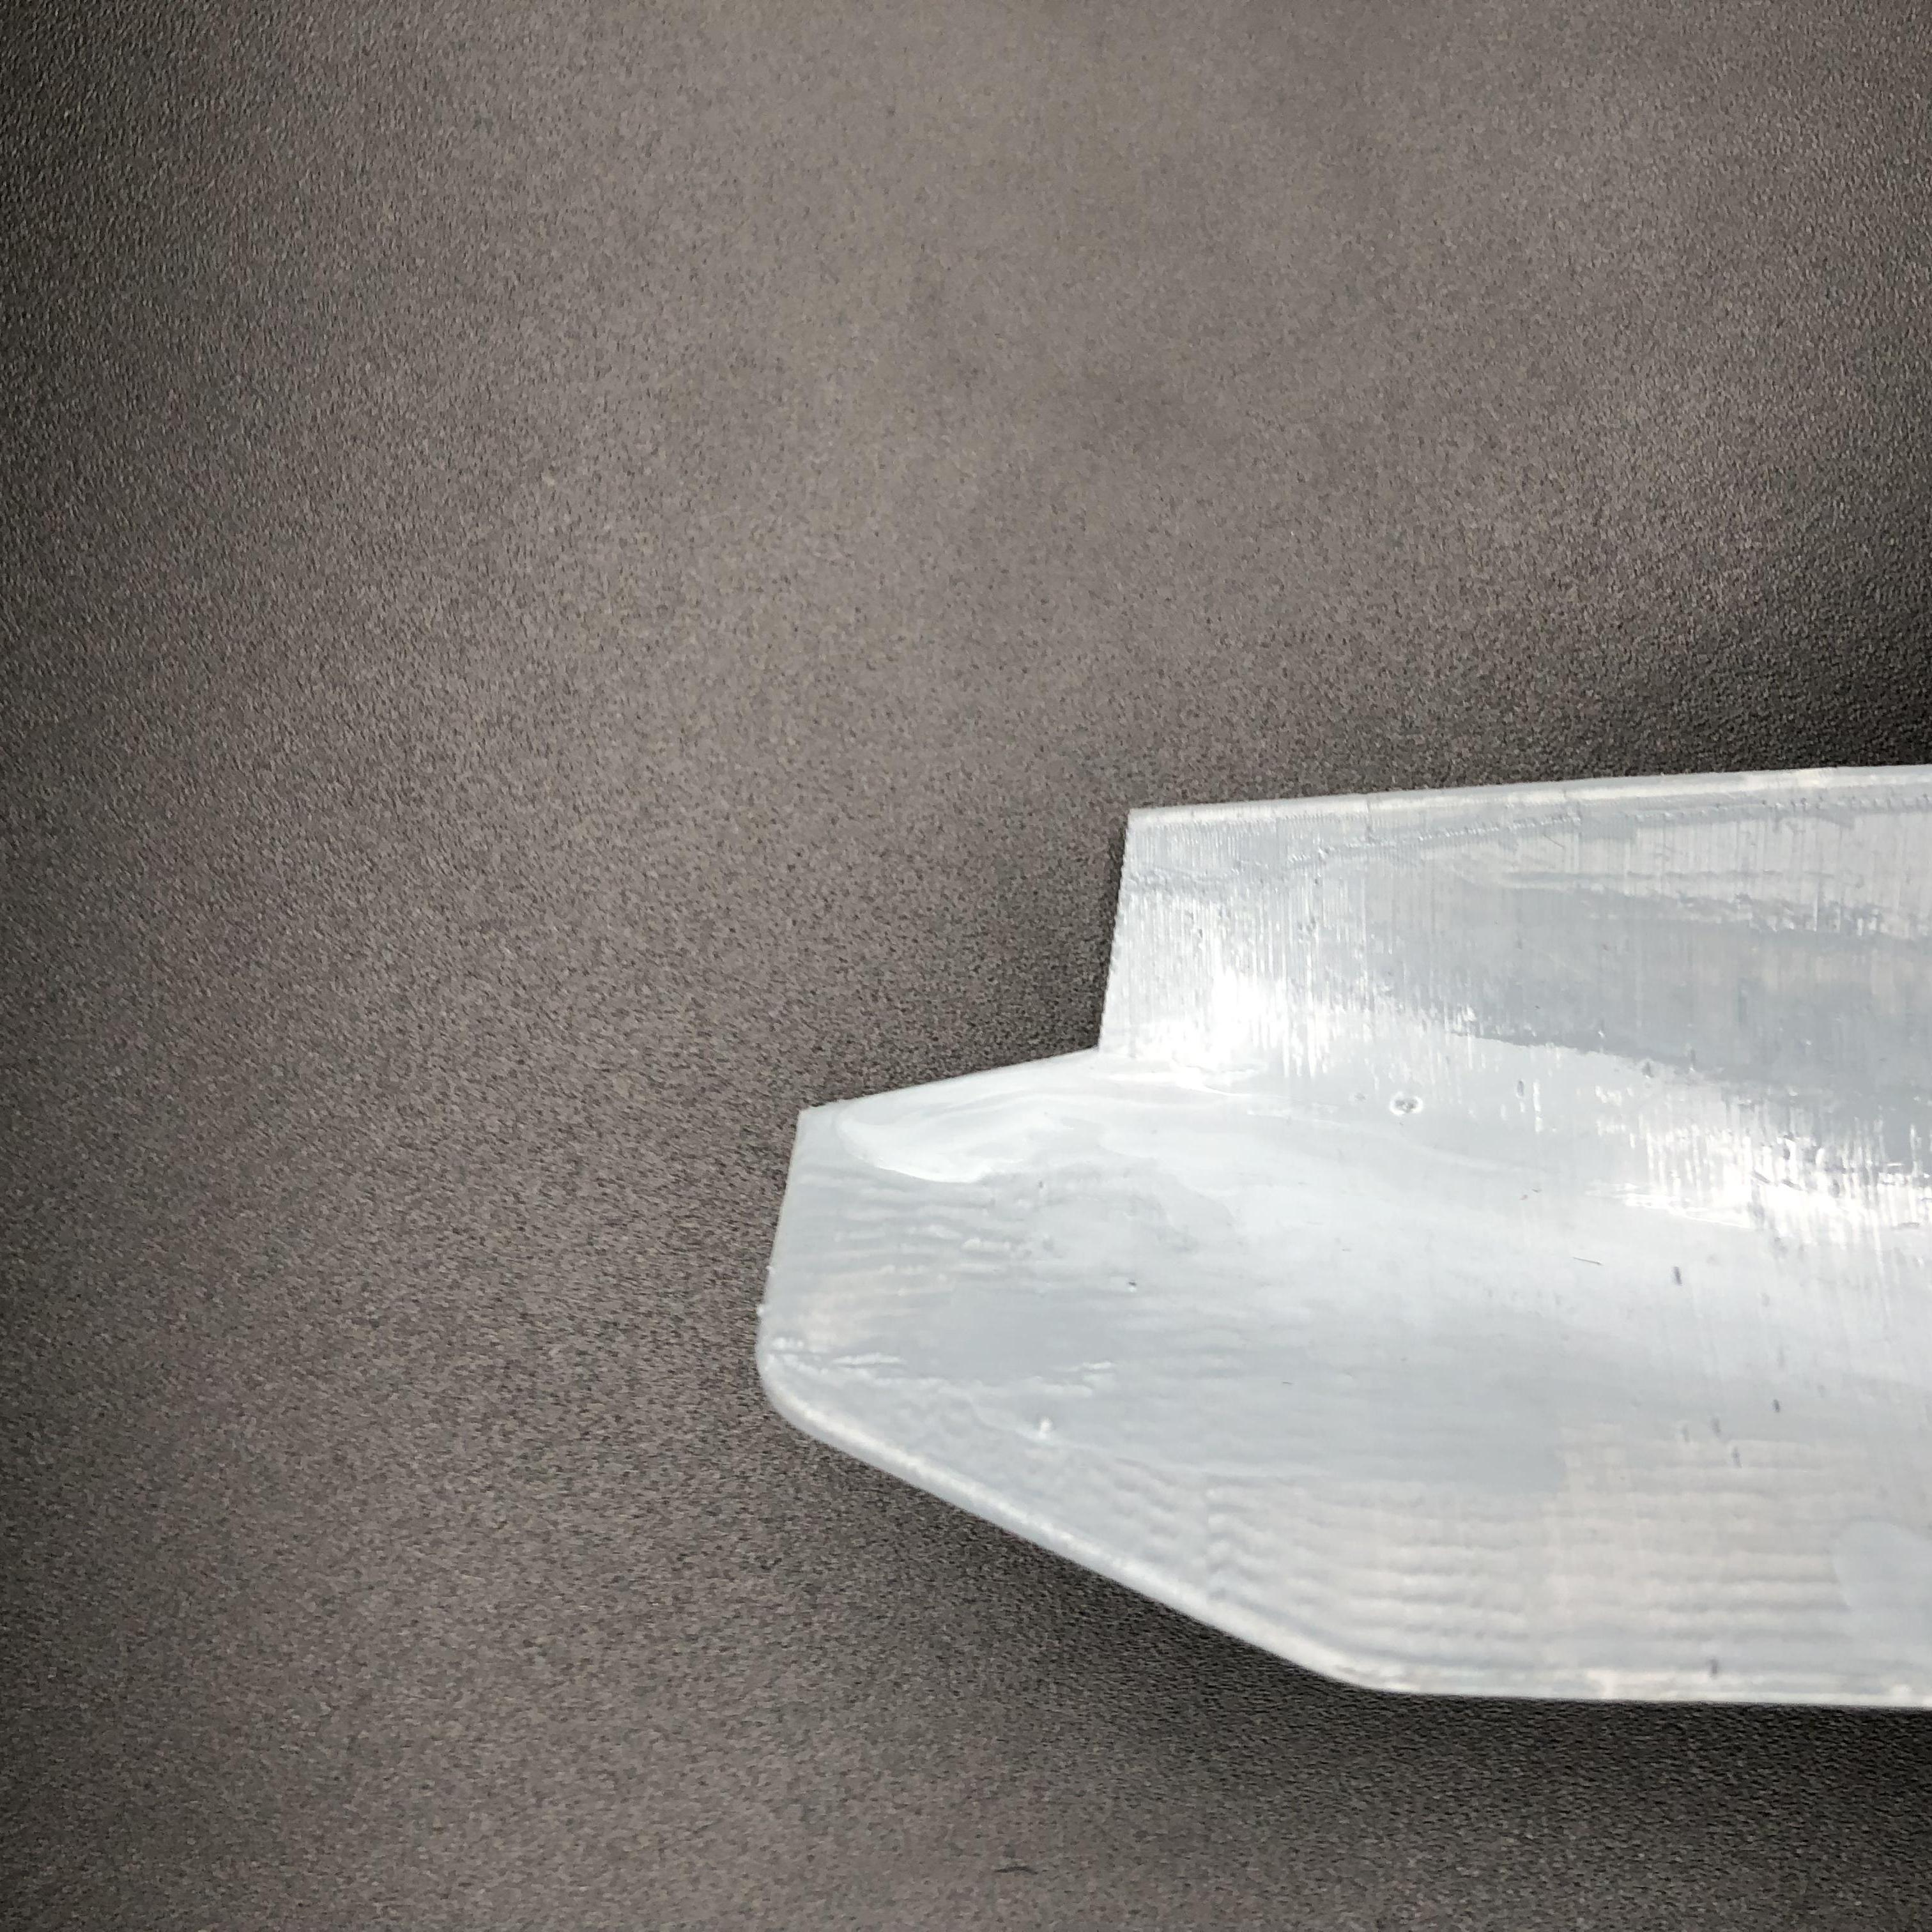fracture: (853, 918, 1297, 1161)
